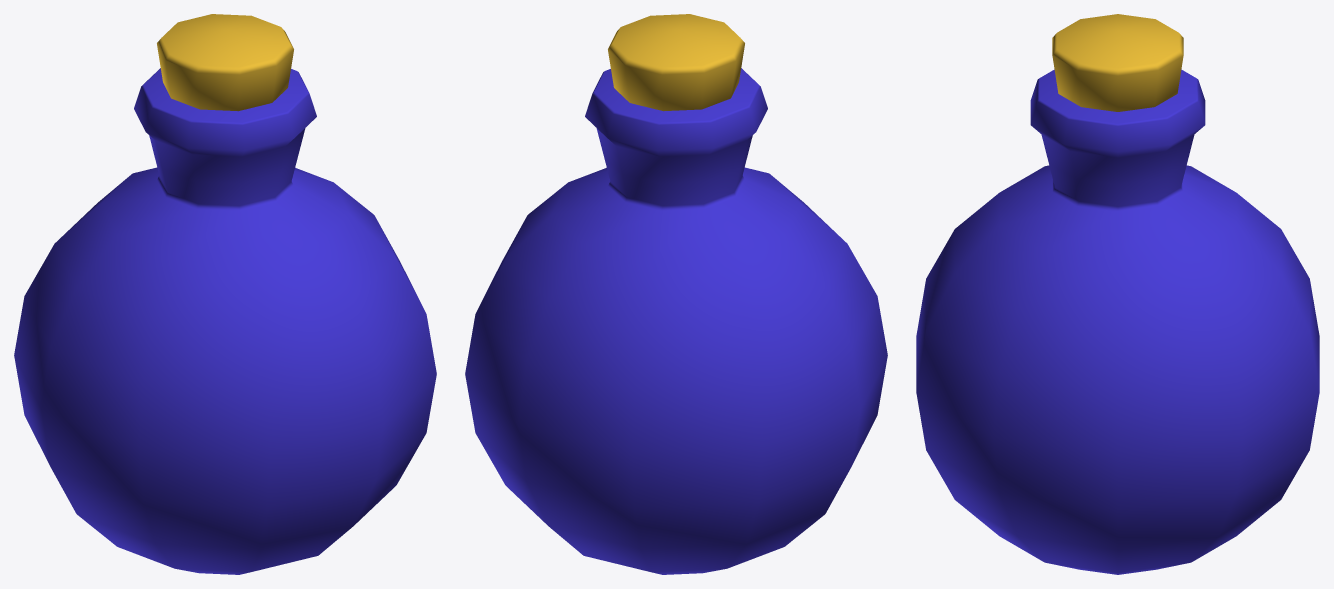
Rendered from Potion scrupt.fbx.
The picture shows the model from 3 angles, left to right: view 1: azimuth 30°, elevation 25°; view 2: azimuth 150°, elevation 25°; view 3: azimuth 270°, elevation 25°; orthographic projection.
Visible parts, largest first — view 1: pSphere7; view 2: pSphere7; view 3: pSphere7.
Boxes of the visible parts, left/top/right/bottom form: pSphere7: left=14, top=14, right=436, bottom=574; pSphere7: left=465, top=14, right=887, bottom=574; pSphere7: left=916, top=14, right=1319, bottom=574.
Size of the model in its own units: 39.41 by 52.96 by 37.48.
